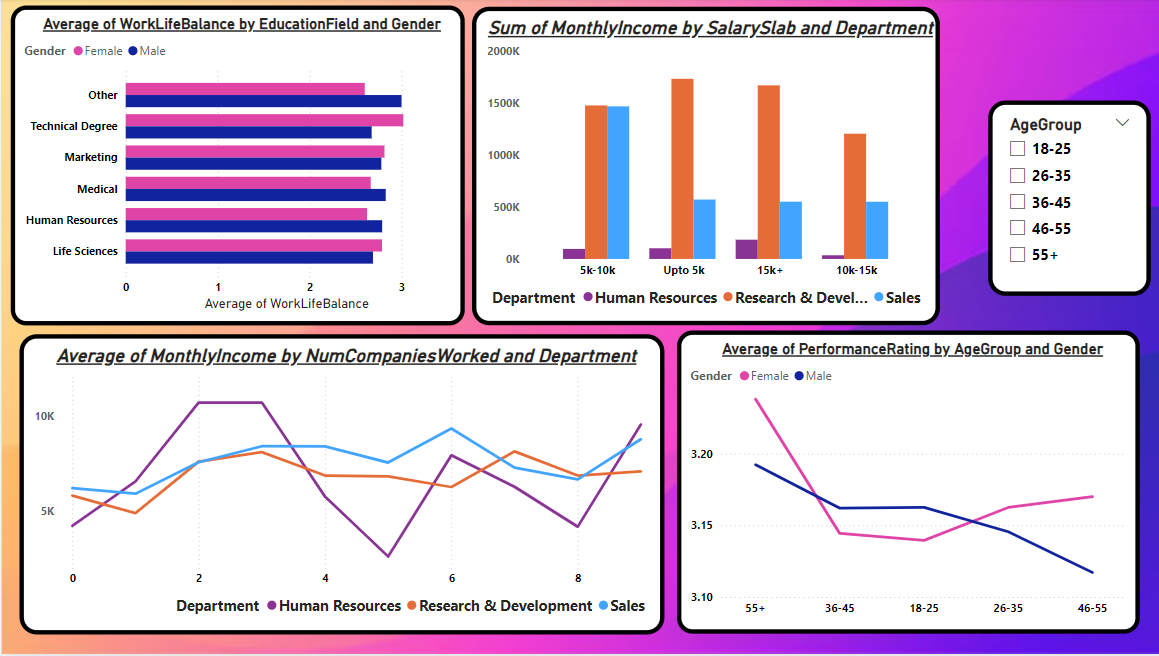

What the dashboard file says about the page in this screenshot:
{"tool":"powerbi","page":{"name":"Page 4","canvas":[1280,720],"ordinal":3},"visuals":[{"type":"clusteredBarChart","fields":{"Y":["Avg(HR_Analytics.WorkLifeBalance)"],"Series":["HR_Analytics.Gender"],"Category":["HR_Analytics.EducationField"]},"box":[9.7,8.4,498.3,351.1],"z":0},{"type":"lineChart","fields":{"Y":["Avg(HR_Analytics.PerformanceRating)"],"Category":["HR_Analytics.AgeGroup"],"Series":["HR_Analytics.Gender"]},"box":[740.8,364.3,507.9,333],"z":1000},{"type":"clusteredColumnChart","fields":{"Category":["HR_Analytics.SalarySlab"],"Y":["Sum(HR_Analytics.MonthlyIncome)"],"Series":["HR_Analytics.Department"]},"box":[516.4,9.7,513.9,349.9],"z":2000},{"type":"lineChart","fields":{"Y":["Avg(HR_Analytics.MonthlyIncome)"],"Category":["HR_Analytics.NumCompaniesWorked"],"Series":["HR_Analytics.Department"]},"box":[0,365.6,708.2,329.4],"z":3000},{"type":"slicer","fields":{"Values":["HR_Analytics.AgeGroup"]},"box":[1082.7,112.5,178.4,214.1],"z":4000}]}

Visuals, with their boxes in screenshot pixels (x1, y1, x2, y2), scaled from the page's 1280x720 canvas onto the 1159x656 screenshot:
clusteredBarChart - Avg(HR_Analytics.WorkLifeBalance) x HR_Analytics.Gender: 9 8 460 328
lineChart - Avg(HR_Analytics.PerformanceRating) x HR_Analytics.AgeGroup: 671 332 1131 635
clusteredColumnChart - HR_Analytics.SalarySlab x Sum(HR_Analytics.MonthlyIncome): 468 9 933 328
lineChart - Avg(HR_Analytics.MonthlyIncome) x HR_Analytics.NumCompaniesWorked: 0 333 641 633
slicer - HR_Analytics.AgeGroup: 980 102 1142 298
